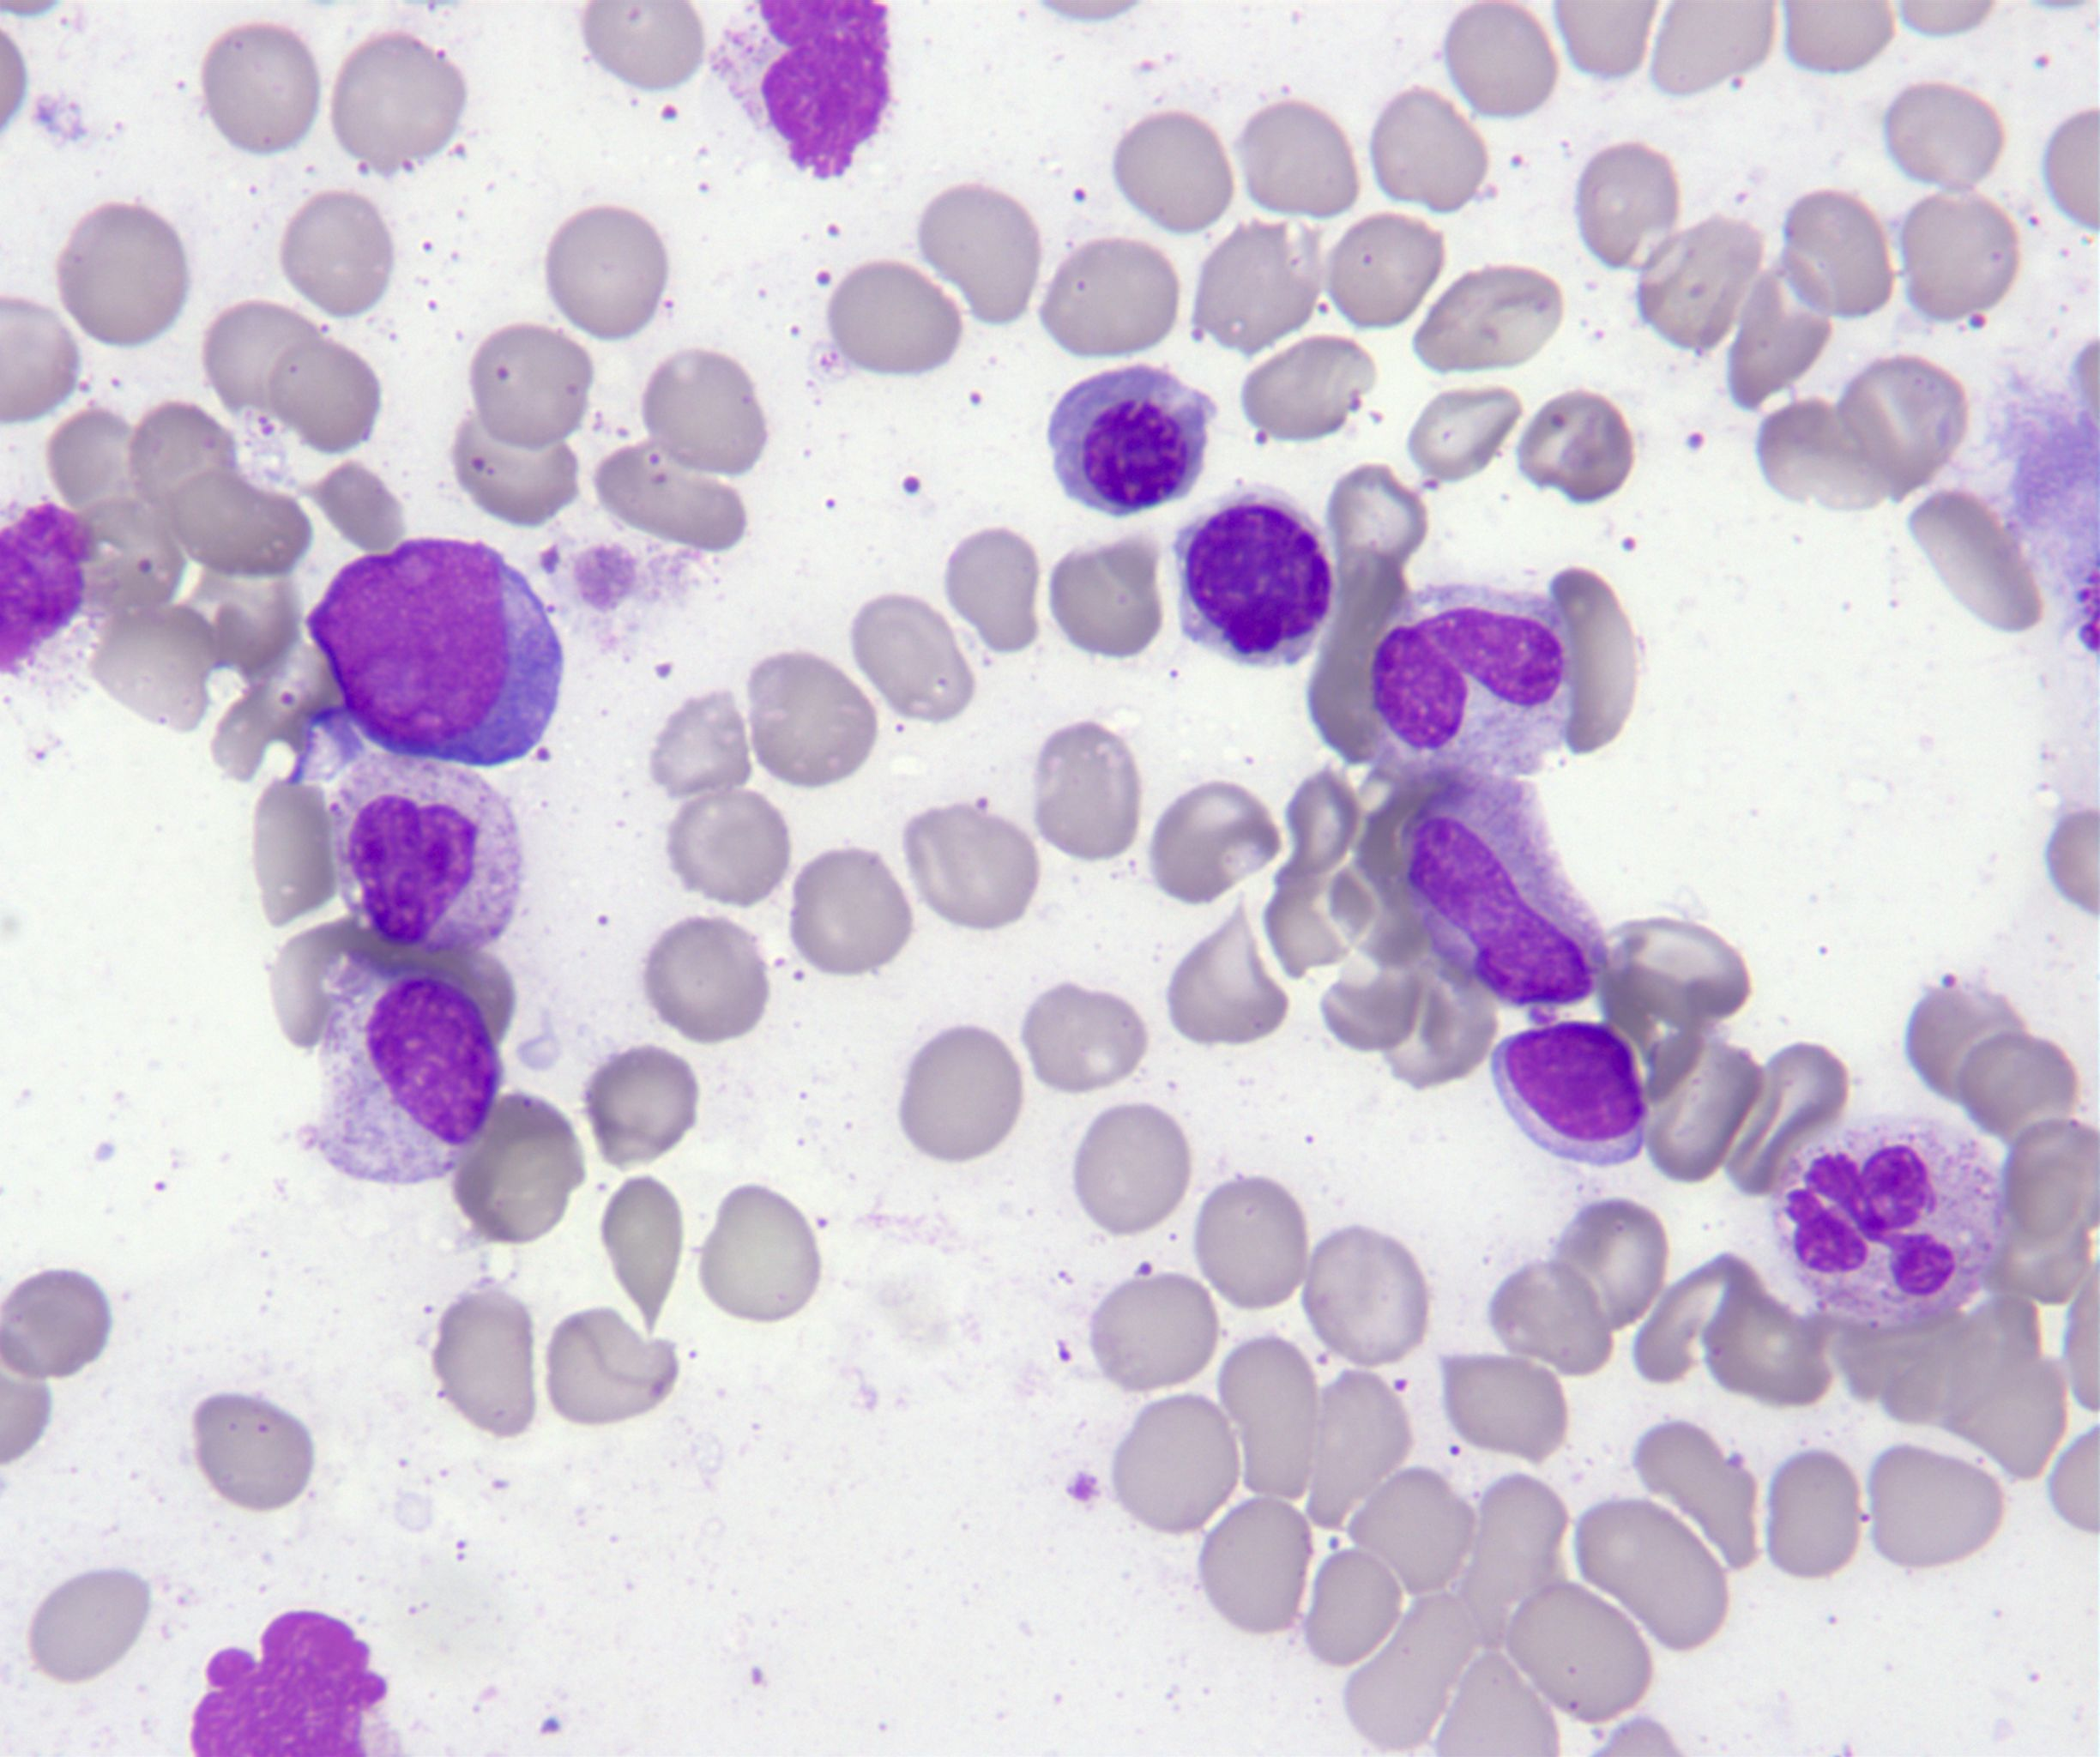1: (307, 539, 563, 766)
23: (1050, 366, 1217, 516)
32: (1174, 483, 1333, 667), (1490, 1019, 1647, 1167)
4: (317, 958, 502, 1186), (330, 752, 518, 956)
5: (1395, 776, 1610, 1010), (1364, 585, 1575, 776)
6: (1765, 1122, 2004, 1340)
x: (708, 0, 891, 176), (192, 1610, 385, 1757), (2, 502, 101, 667)
